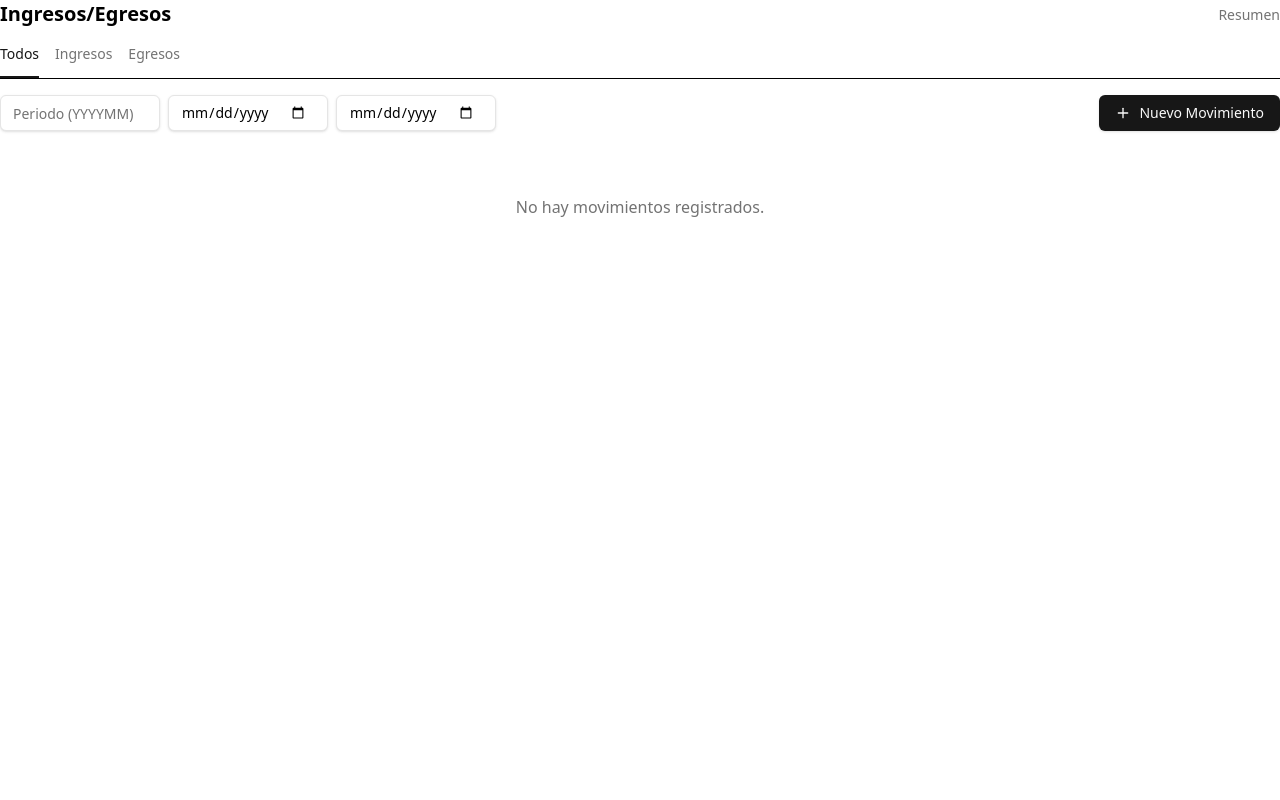
Test case: EntryListPage › [@happy-path] opens create modal on Nuevo Movimiento click
The width and height of the screenshot is (1280, 800).
Step 1. Click the button "Nuevo Movimiento" → (1190, 113), box [1100,95,1279,131]
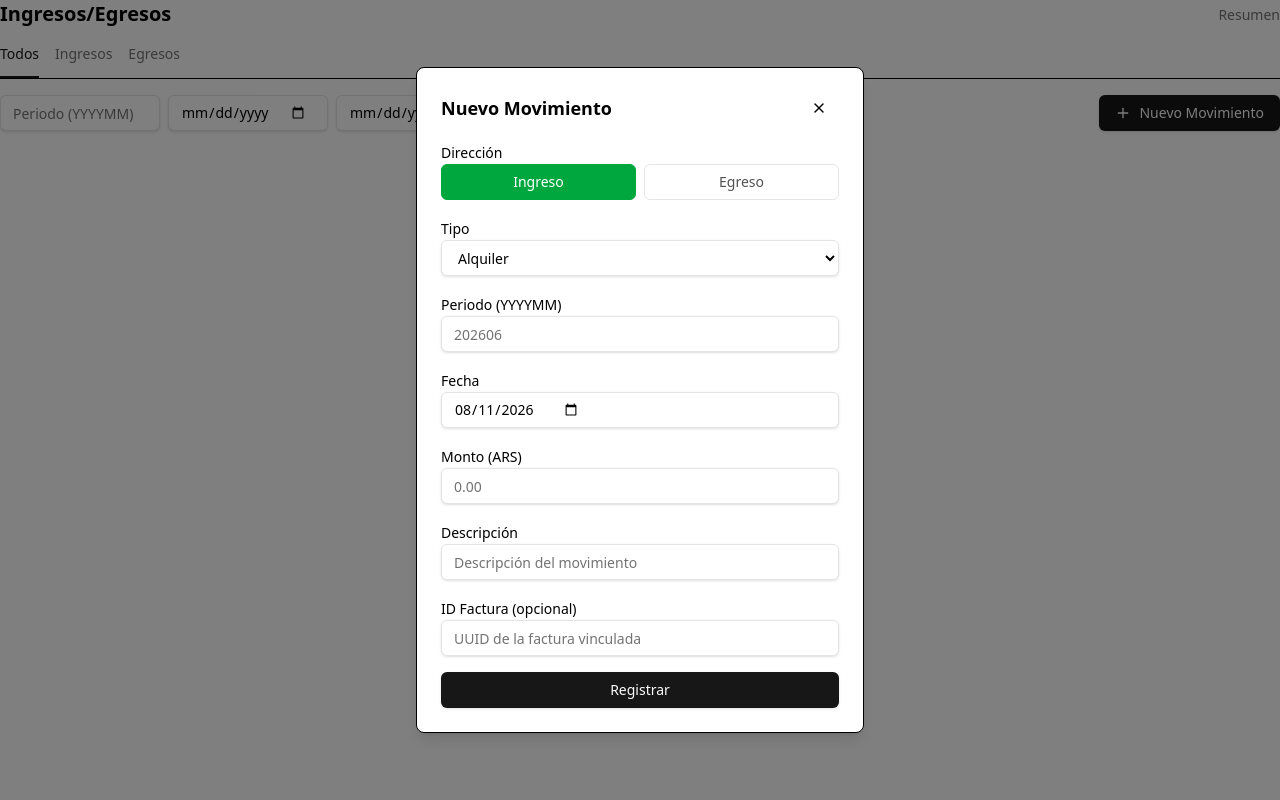
Expected: the heading "Nuevo Movimiento" is shown, [441,94,612,122]
